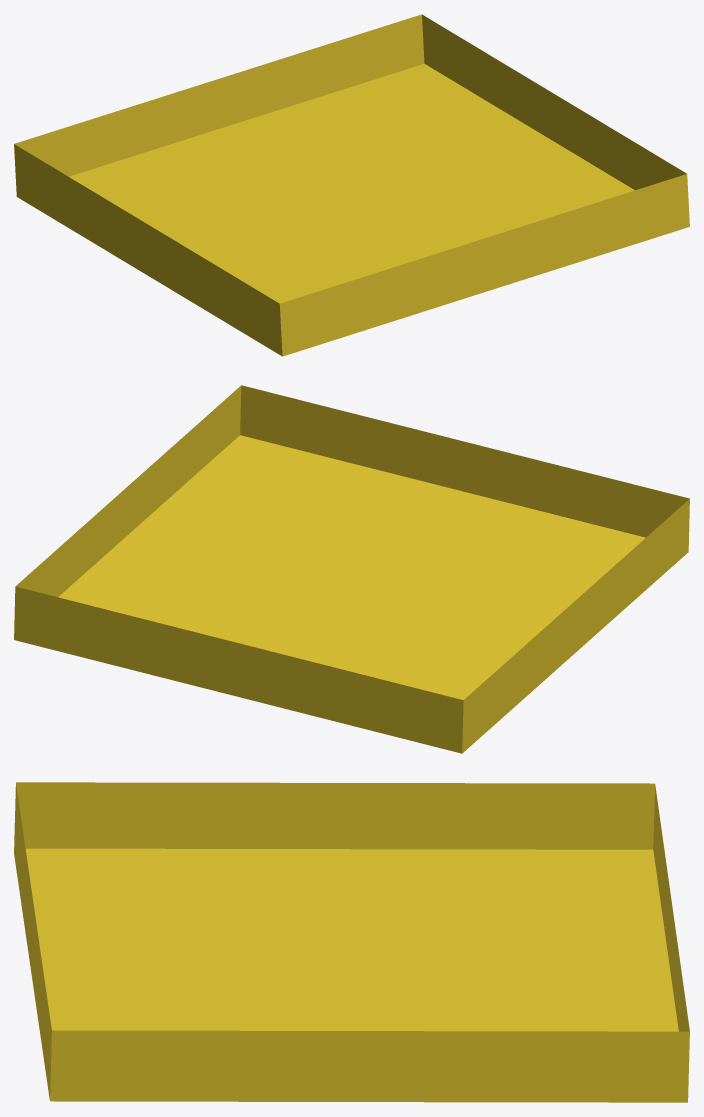
The model's file is cube.023_lev3.glb.
3 renders of one model, top to bottom at view 1: azimuth 30°, elevation 25°; view 2: azimuth 150°, elevation 25°; view 3: azimuth 270°, elevation 25°, orthographic. The views are drawn at different scales.
Visible parts, largest first — view 1: cube.023_lev3; view 2: cube.023_lev3; view 3: cube.023_lev3.
Boxes of the visible parts, x1=… form: cube.023_lev3: x1=14, y1=14, x2=689, y2=356; cube.023_lev3: x1=14, y1=385, x2=689, y2=753; cube.023_lev3: x1=14, y1=782, x2=689, y2=1102.
Bounding box in the file's own units: 0.6393 × 0.1125 × 0.6366.
